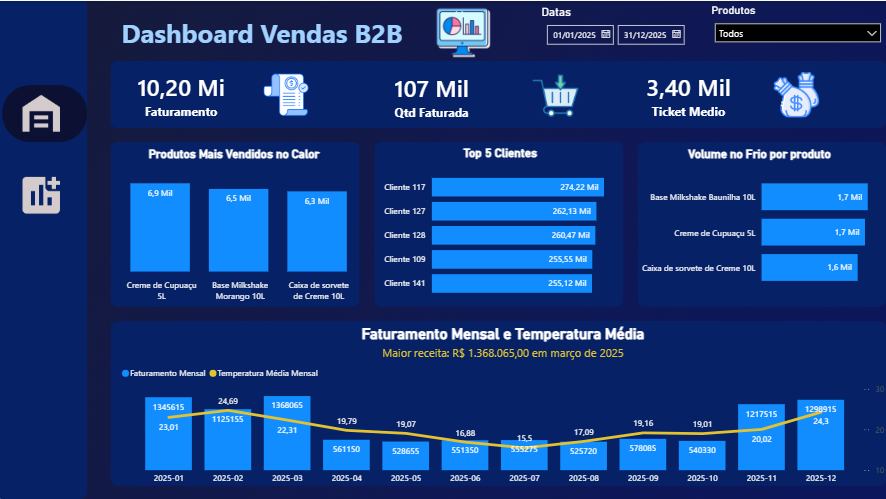

What the dashboard file says about the page in this screenshot:
{"tool":"powerbi","page":{"name":"Página 1","canvas":[1280,720],"ordinal":0},"visuals":[{"type":"cardVisual","fields":{"Data":["Sum(public vw_faturamento_mensal.faturamento_total)"]},"box":[171.4,85,337,100.8],"z":0},{"type":"cardVisual","fields":{"Data":["Sum(public fato_vendas_clima.quantidade)"]},"box":[518.4,86.4,391.7,100.8],"z":1000},{"type":"cardVisual","fields":{"Data":["public fato_vendas_clima.Ticket Medio"]},"box":[900,85,344.2,100.8],"z":2000},{"type":"lineStackedColumnComboChart","title":"Faturamento Mensal e Temperatura Média","fields":{"Category":["public vw_faturamento_mensal.mes"],"Y":["Sum(public vw_faturamento_mensal.faturamento_total)"],"Y2":["Sum(public vw_faturamento_mensal.temperatura_media_mes)"]},"box":[171.4,466.6,1108.8,239],"z":3000},{"type":"columnChart","title":"Produtos Mais Vendidos no Calor ","fields":{"Category":["public fato_vendas_clima.produto"],"Y":["public fato_vendas_clima.Volume no Calor"]},"box":[121,210.2,434.9,230.4],"z":4000},{"type":"clusteredBarChart","title":"Top 5 Clientes ","fields":{"Category":["public dim_clientes.nome_cliente"],"Y":["Sum(public fato_vendas_clima.valor_total)"]},"box":[544.5,209.4,355.2,231.2],"z":5000},{"type":"clusteredBarChart","fields":{"Category":["public fato_vendas_clima.produto"],"Y":["public fato_vendas_clima.Volume no Frio"]},"box":[910.1,210.2,370.1,220.3],"z":6000},{"type":"textbox","box":[171.2,15.1,433.2,69.7],"z":7000},{"type":"slicer","title":"Datas","fields":{"Values":["public fato_vendas_clima.data_pedido"]},"box":[776.2,5.8,244.8,80.6],"z":8000},{"type":"slicer","title":"Produtos","fields":{"Values":["public fato_vendas_clima.produto"]},"box":[1021,4.3,259.2,70.6],"z":9000},{"type":"image","box":[580.2,4.5,175.7,81.8],"z":10000},{"type":"actionButton","box":[27.3,243.9,69.7,63.6],"z":10001}]}

Visuals, with their boxes in screenshot pixels (x1, y1, x2, y2), scaled from the page's 1280x720 canvas onto the 886x499 screenshot:
cardVisual - Sum(public vw_faturamento_mensal.faturamento_total): Rect(119, 59, 352, 129)
cardVisual - Sum(public fato_vendas_clima.quantidade): Rect(359, 60, 630, 130)
cardVisual - public fato_vendas_clima.Ticket Medio: Rect(623, 59, 861, 129)
"Faturamento Mensal e Temperatura Média" lineStackedColumnComboChart: Rect(119, 323, 885, 489)
"Produtos Mais Vendidos no Calor " columnChart: Rect(84, 146, 385, 305)
"Top 5 Clientes " clusteredBarChart: Rect(377, 145, 623, 305)
clusteredBarChart - public fato_vendas_clima.produto x public fato_vendas_clima.Volume no Frio: Rect(630, 146, 885, 298)
textbox: Rect(119, 10, 418, 59)
"Datas" slicer: Rect(537, 4, 707, 60)
"Produtos" slicer: Rect(707, 3, 885, 52)
image: Rect(402, 3, 523, 60)
actionButton: Rect(19, 169, 67, 213)
